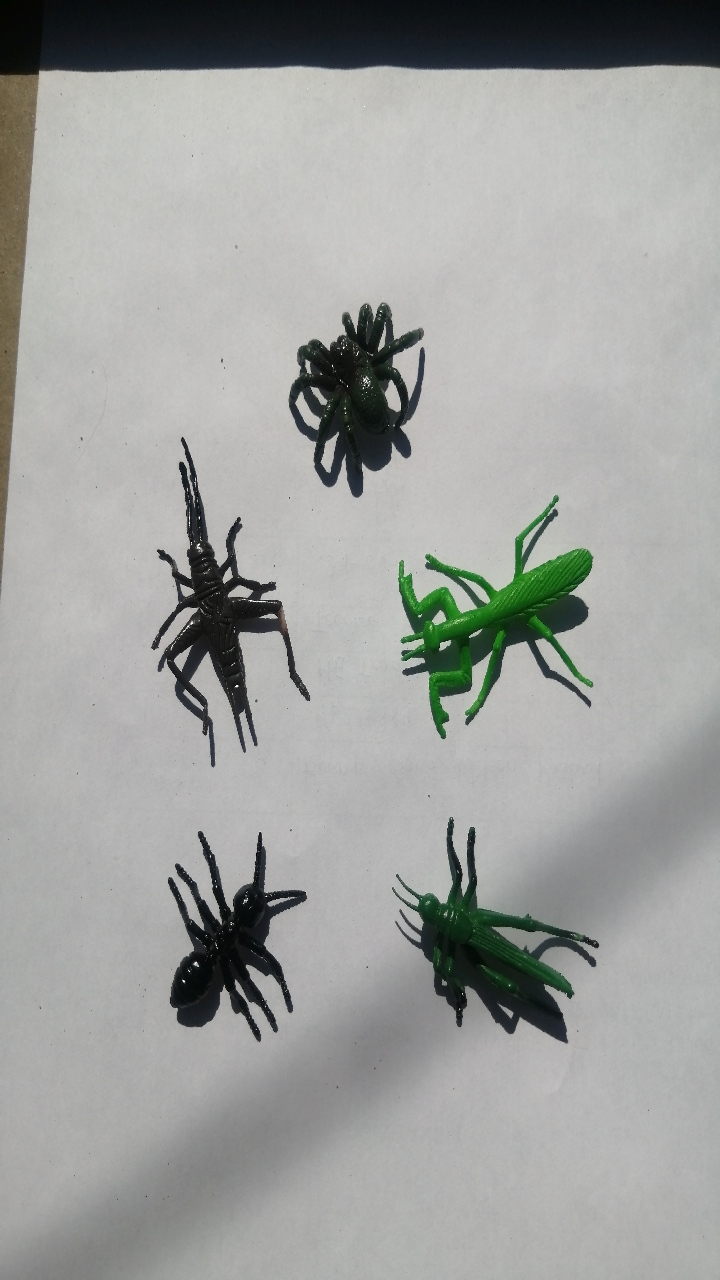intruso: (114, 422, 315, 791), (374, 802, 615, 1086), (363, 495, 615, 749), (135, 779, 337, 1072), (275, 257, 441, 497)
